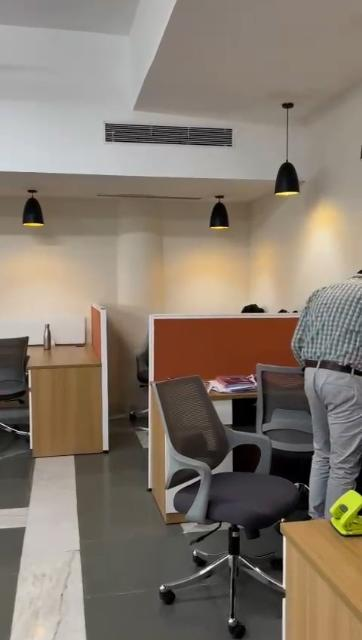floor: (0, 460, 144, 638)
moving-obj: (281, 230, 362, 522)
object: (152, 372, 280, 636), (251, 360, 306, 490), (0, 334, 36, 454), (38, 321, 56, 354)
wall: (0, 230, 338, 282)
